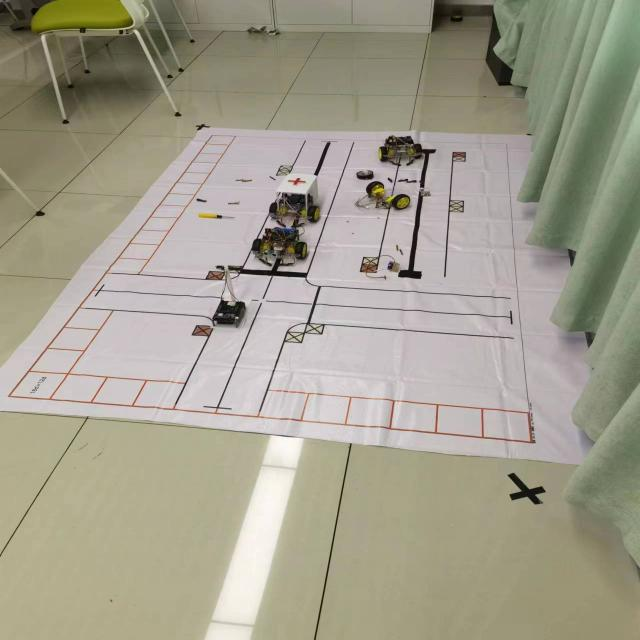RedCross: (286, 176, 308, 186)
